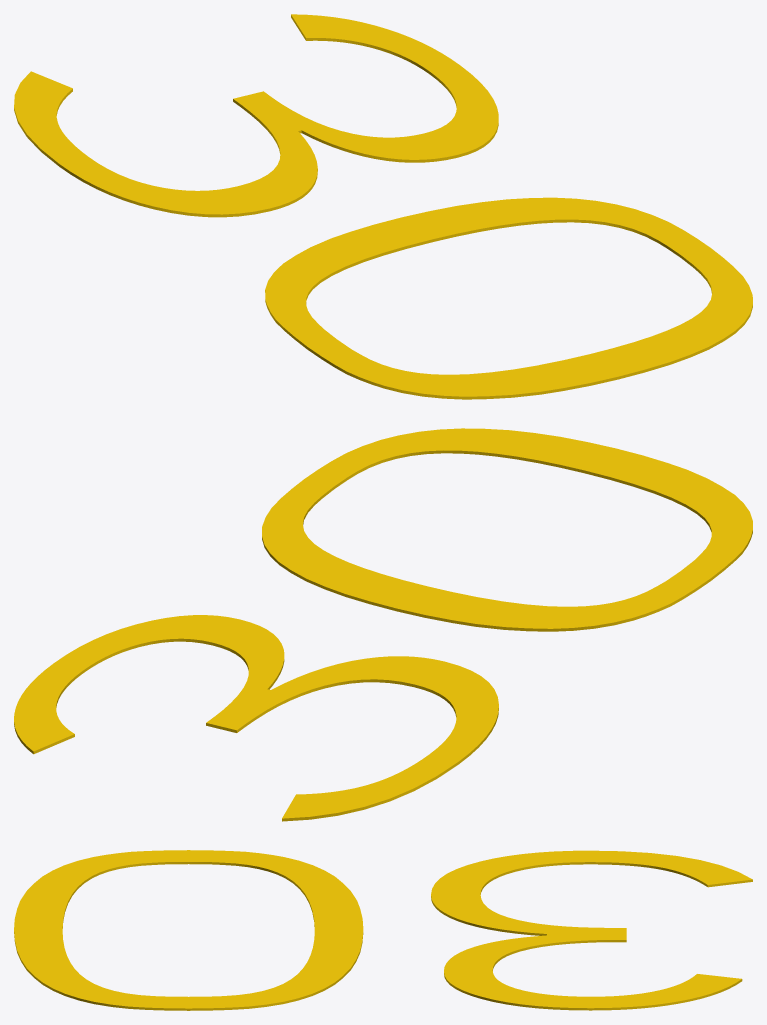
The model's file is Maximum_RoadSurface_Speed_Limit_30.fbx.
The picture shows the model from 3 angles, top to bottom: view 1: azimuth 30°, elevation 25°; view 2: azimuth 150°, elevation 25°; view 3: azimuth 270°, elevation 25°; orthographic projection. The views are drawn at different scales.
Parts seen in each view (by area): view 1: Maximum_RoadSurface_Speed_Limit_30; view 2: Maximum_RoadSurface_Speed_Limit_30; view 3: Maximum_RoadSurface_Speed_Limit_30.
Part boxes in pixels (left/top/right/bottom): Maximum_RoadSurface_Speed_Limit_30: left=14, top=14, right=752, bottom=399; Maximum_RoadSurface_Speed_Limit_30: left=14, top=428, right=752, bottom=821; Maximum_RoadSurface_Speed_Limit_30: left=14, top=850, right=752, bottom=1010.
Bounding box in the file's own units: 1.47 × 0.01 × 2.9.
